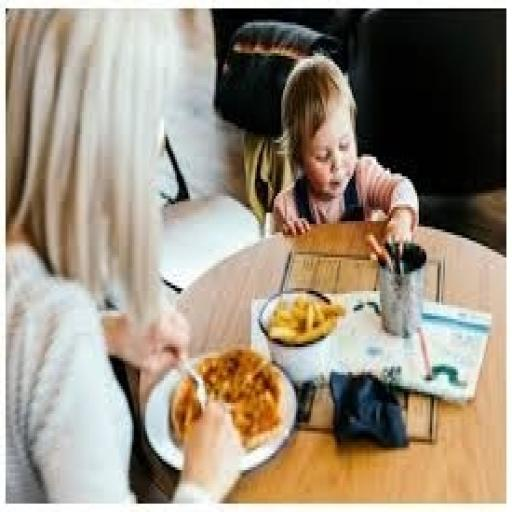eating: (268, 50, 421, 258)
